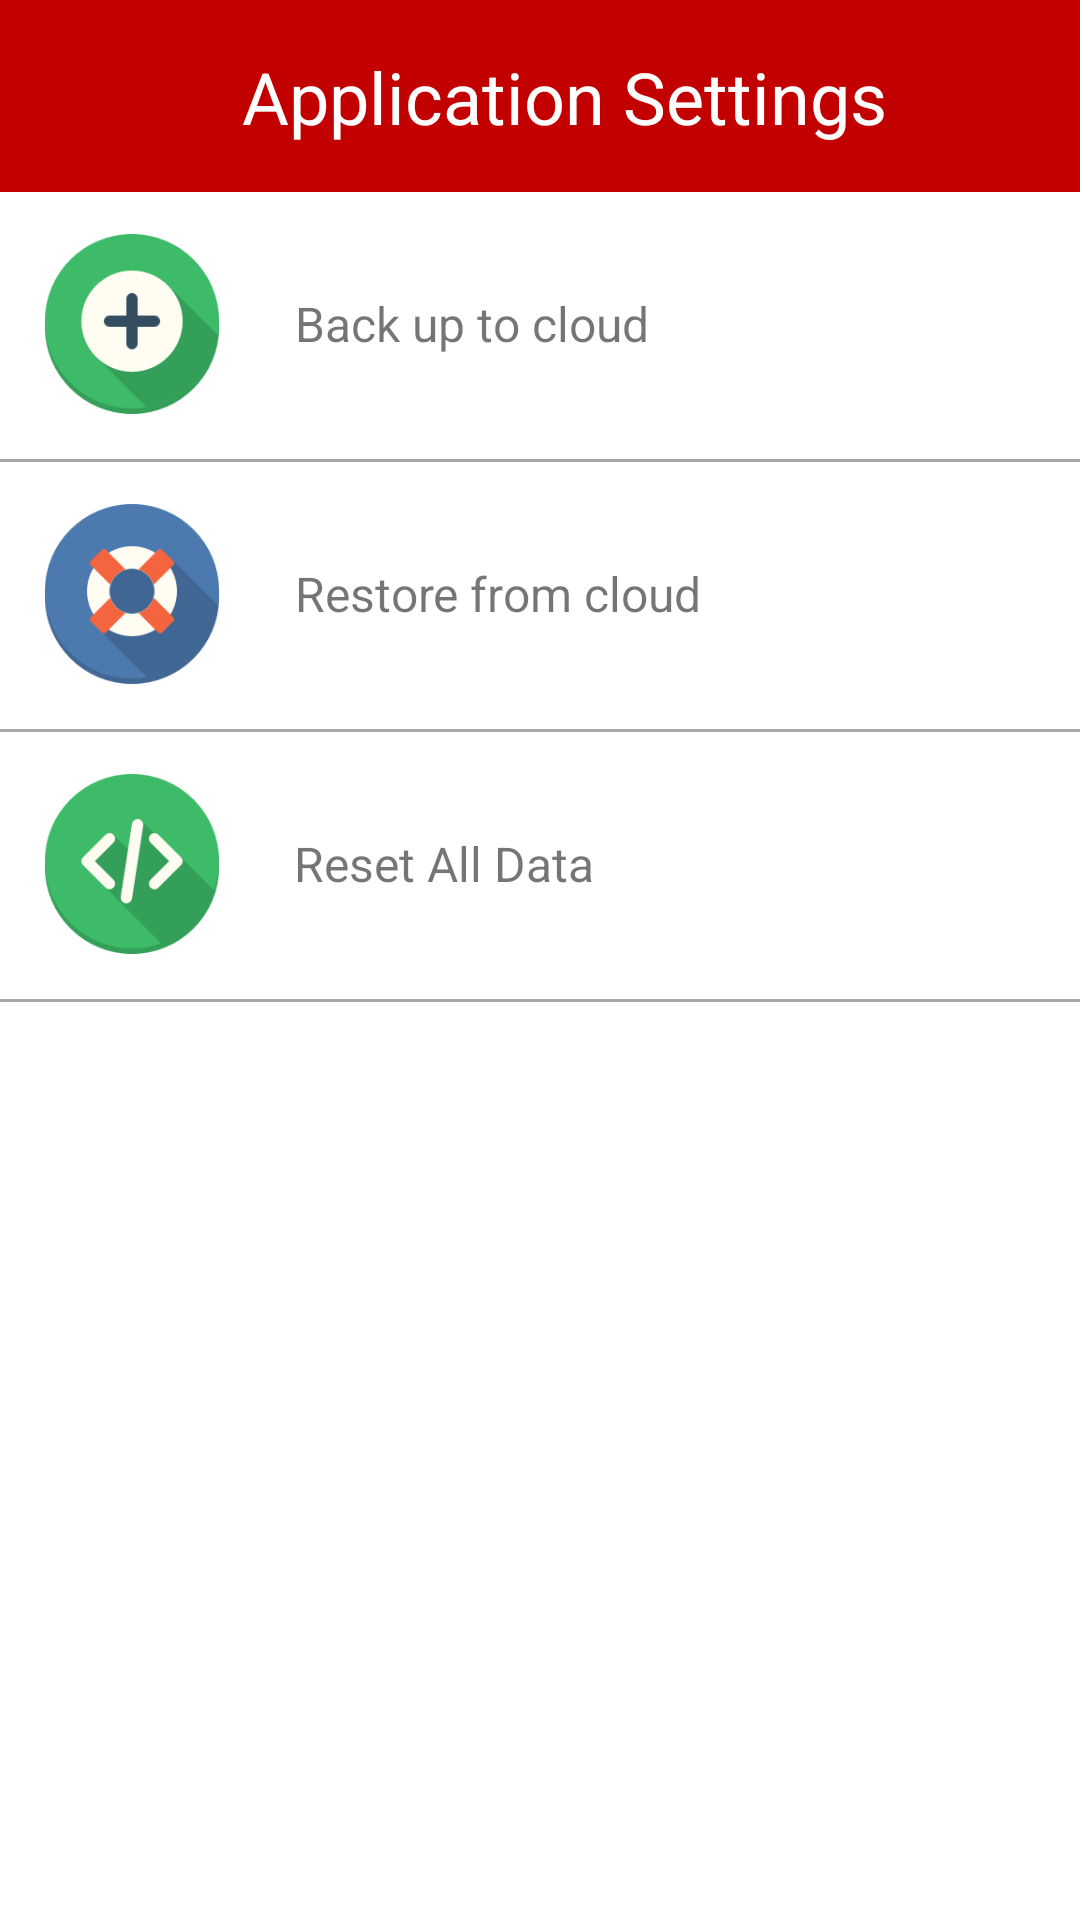

Where icons sit on this 1080px×1920px app screen, as (x1, y1, x2, y2):
add: (45, 234, 219, 414)
code: (45, 774, 219, 954)
help: (45, 504, 219, 684)
